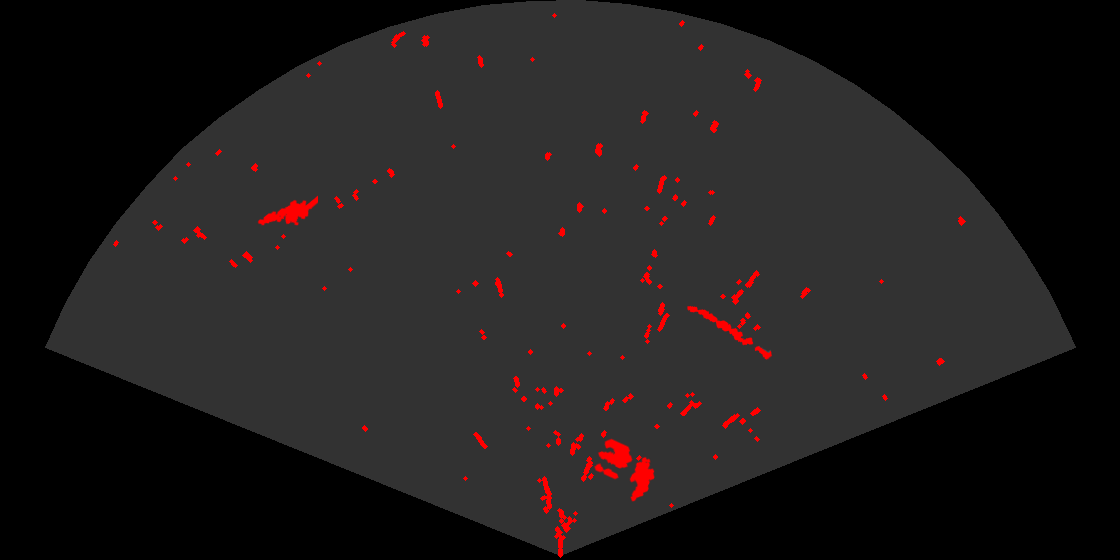AUV: (628, 455, 656, 503)
ball: (593, 437, 634, 481)
chain: (686, 304, 774, 361)
frogman: (256, 194, 318, 227)
